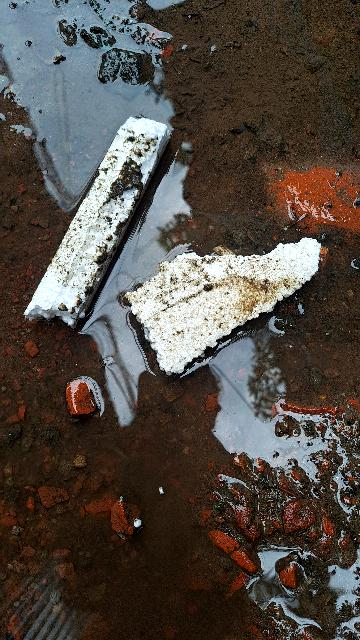cocksheet: (12, 114, 346, 389)
